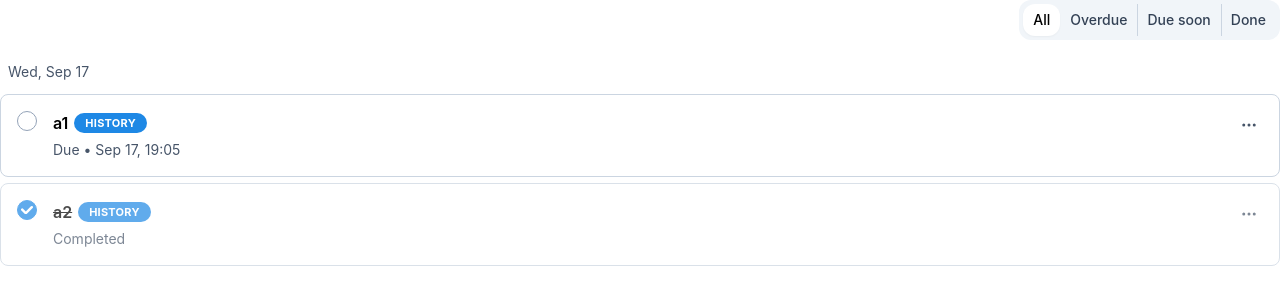
Upcoming view › shows done items and filters work
Expected: the text "a1" is shown, [53,111,68,136]
Expected: the text "a2" is shown, [53,200,72,225]
Switch to Done filter
What coordinates should you click on to do the following:
click the radio button labelled "Done"
I would click on:
 (1248, 20)
Its box is [1231,11,1266,28].
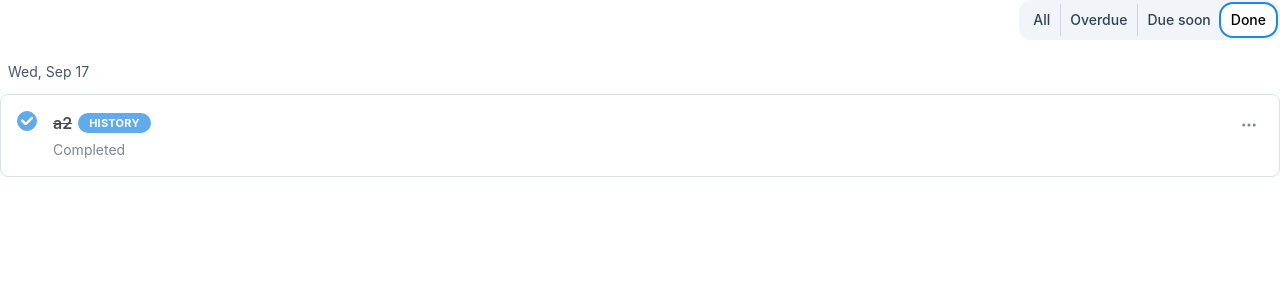
Expected: the text "a2" is shown, [53,111,72,136]
Expected: the text "a1" is gone
